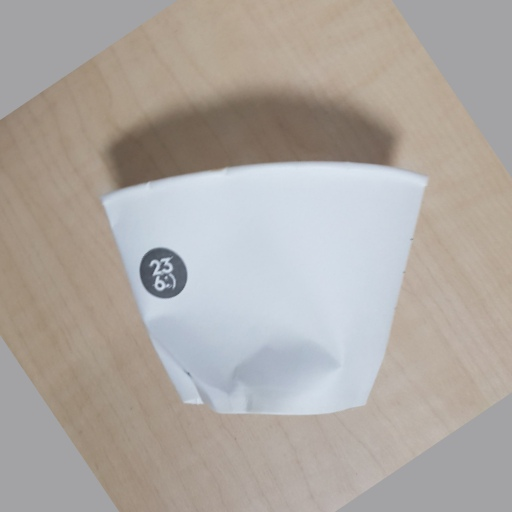Paper_1: (99, 158, 431, 415)
